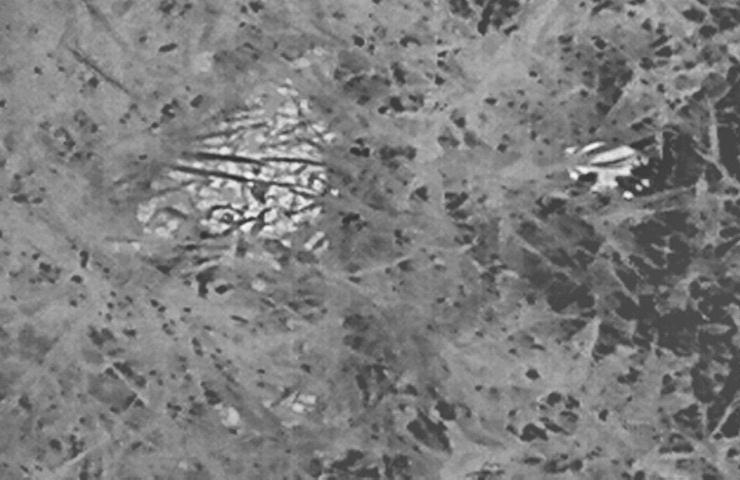landmines: (139, 71, 345, 271)
